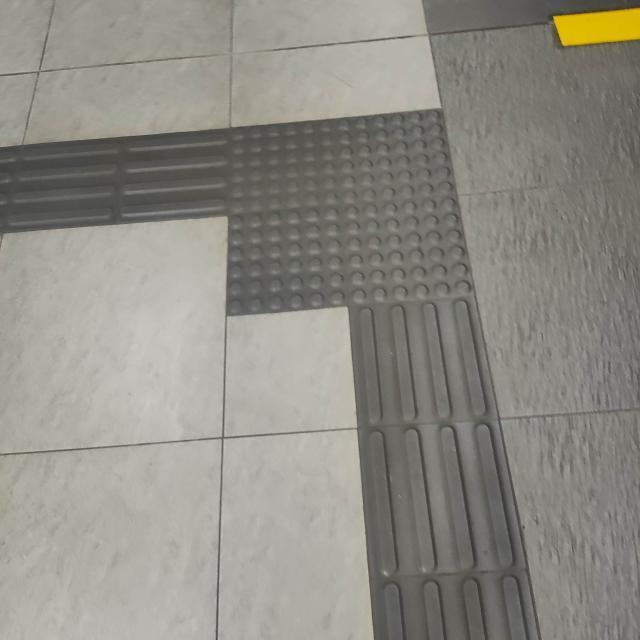kiri: (8, 67, 566, 428)
